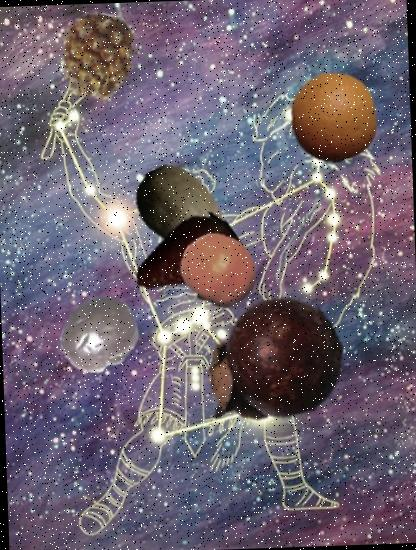Clementine: (178, 229, 260, 311)
Mangostan: (198, 285, 348, 435)
Orange: (287, 71, 381, 165)
Papaya: (130, 162, 232, 264)
Passion: (56, 292, 141, 378)
Pineapple: (50, 10, 144, 104)
Strawberry: (134, 208, 246, 320)
